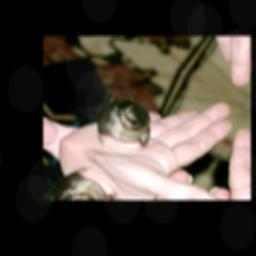Swallow: (69, 81, 169, 164)
